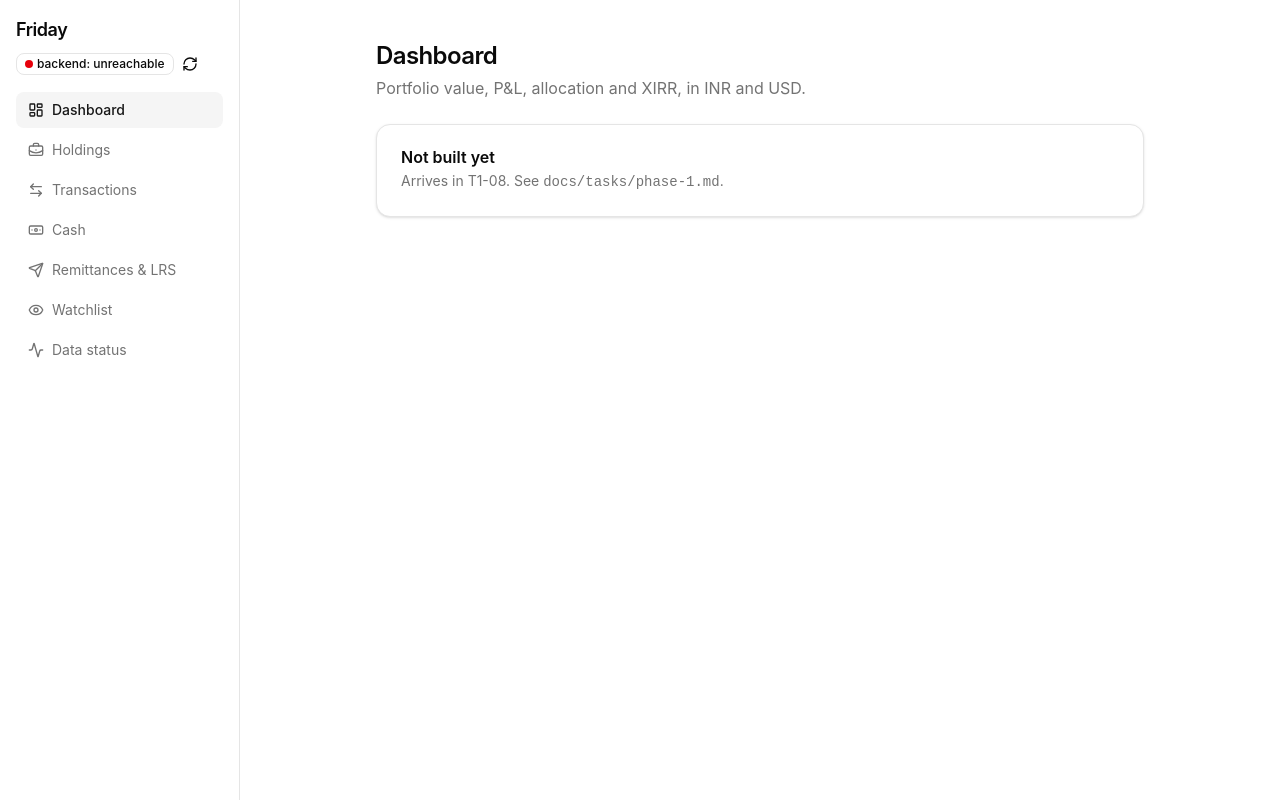
Test: navigates between sections
This screenshot has width=1280, height=800.
Click the link "Holdings" at x=69, y=150, box [28,141,110,158]
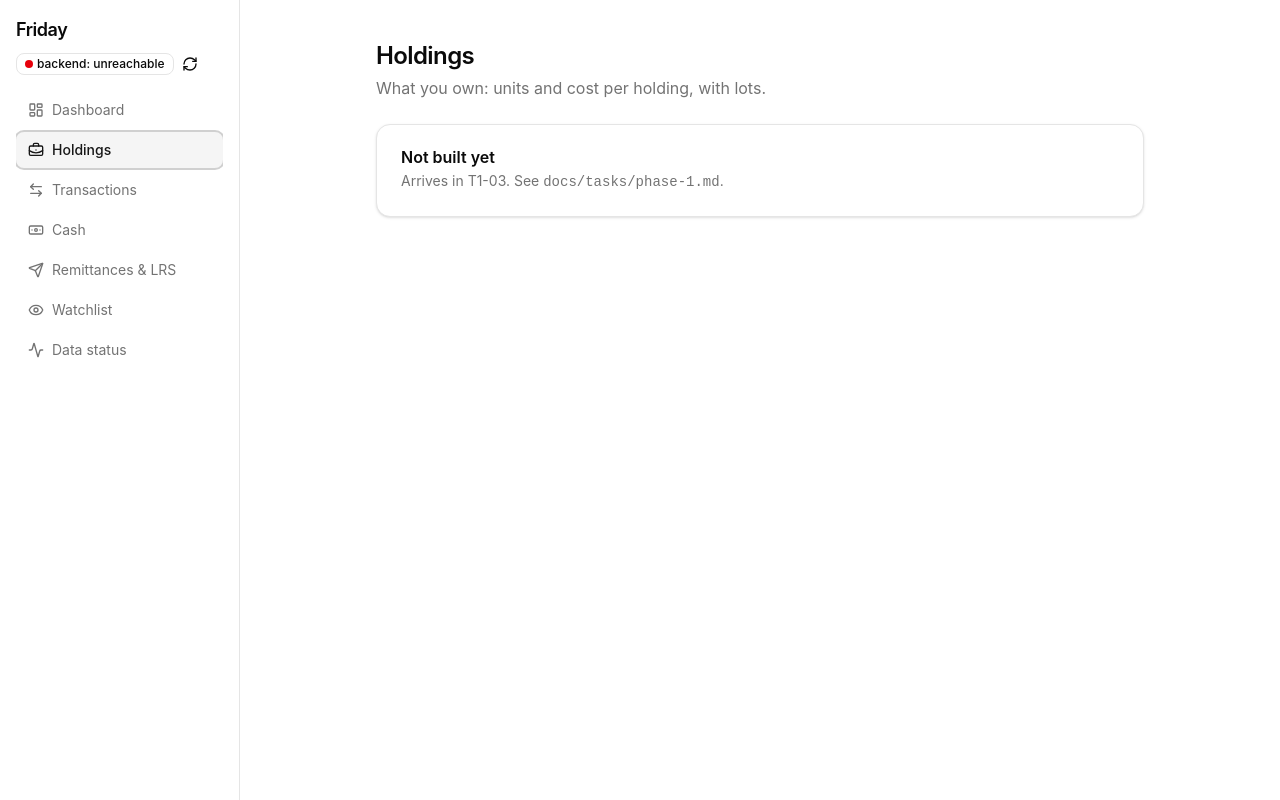
Check: the heading "Holdings" is shown, box [376,41,474,70]
Check: the text "Arrives in T1-03. See docs/tasks/phase-1.md." is shown, box [401,172,724,190]
